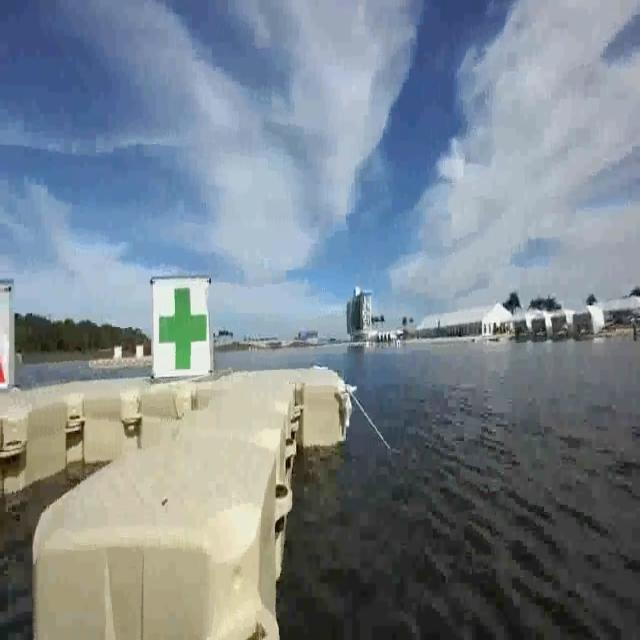blue-cross: (150, 276, 215, 376)
